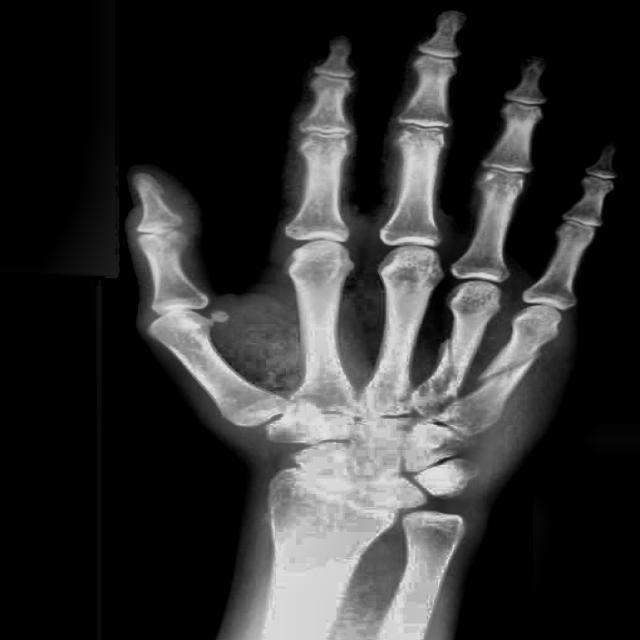fracture: (476, 353, 538, 387), (440, 337, 460, 397)
